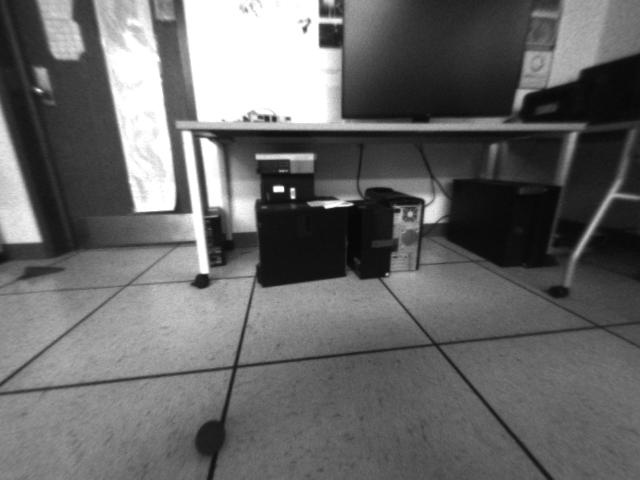dogtoy: (187, 413, 233, 463)
